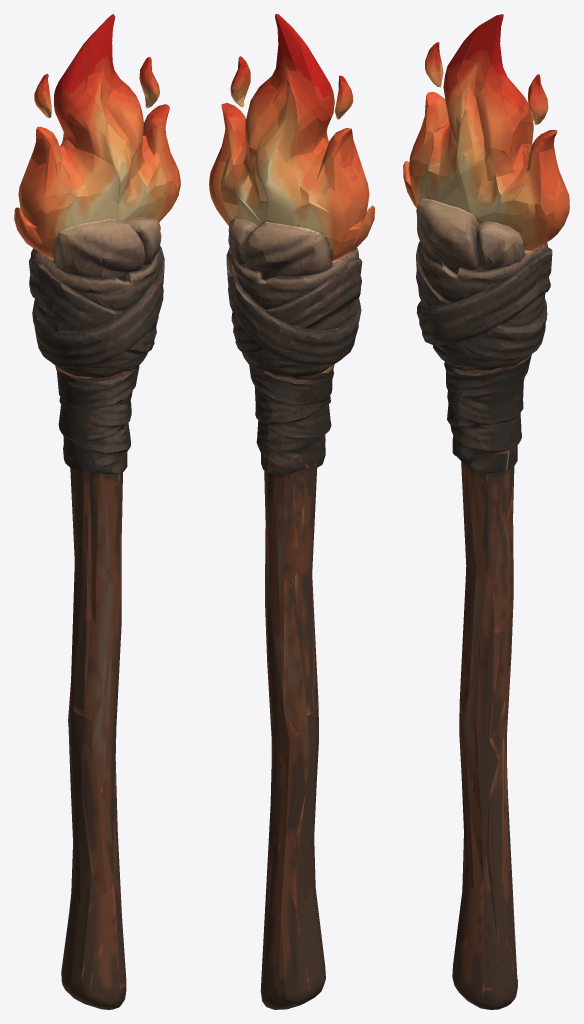
The model's file is torch.glb.
The picture shows the model from 3 angles, left to right: view 1: azimuth 30°, elevation 25°; view 2: azimuth 150°, elevation 25°; view 3: azimuth 330°, elevation 25°; orthographic projection.
Size of the model in its own units: 0.3212 by 1.9 by 0.2398.
1 material, 1 textured.
